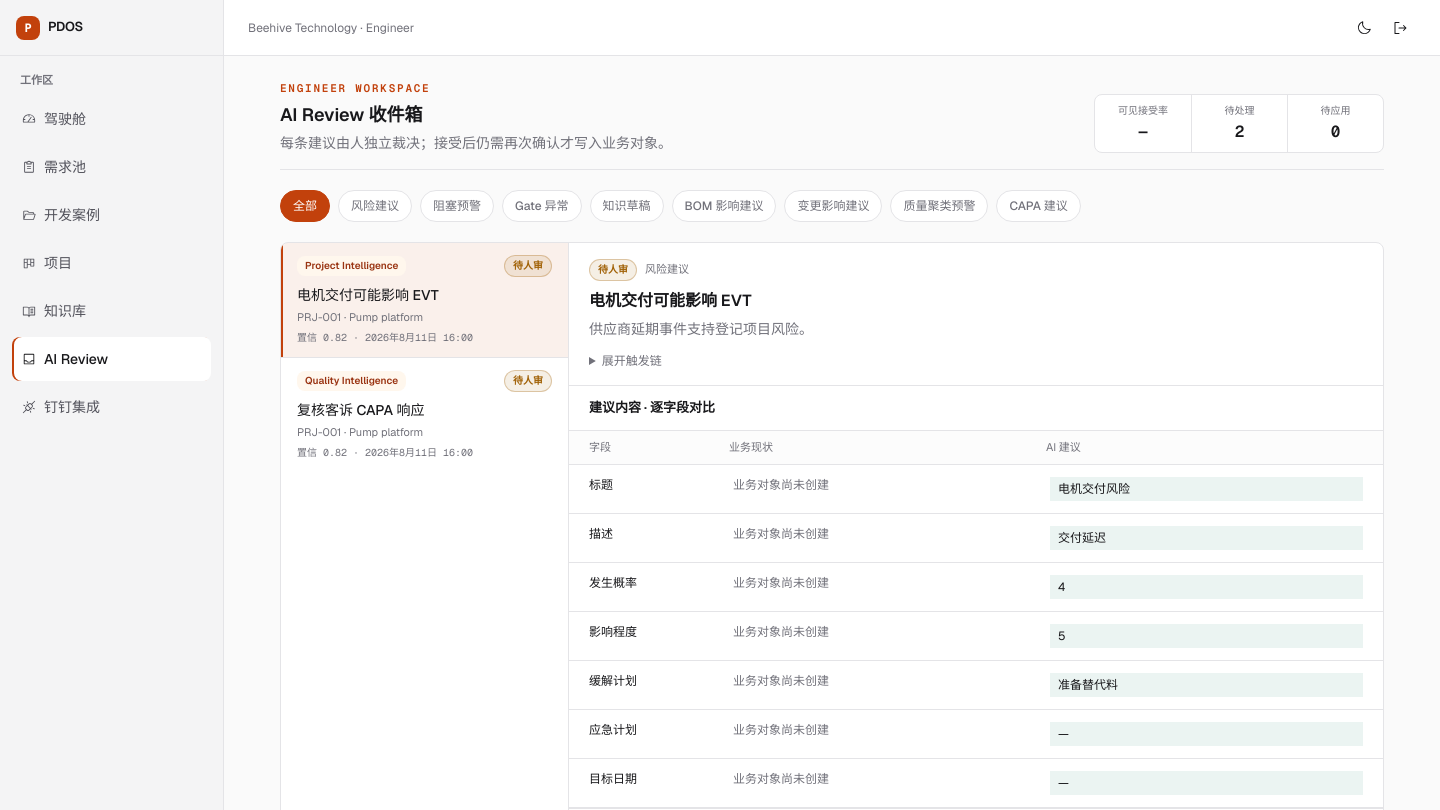
Test: AiReviewInbox › surfaces Phase 2 Engineering and Quality findings through the same review contract
The width and height of the screenshot is (1440, 810).
Click the button "CAPA 建议" at (1039, 206), box [996,190,1081,222]
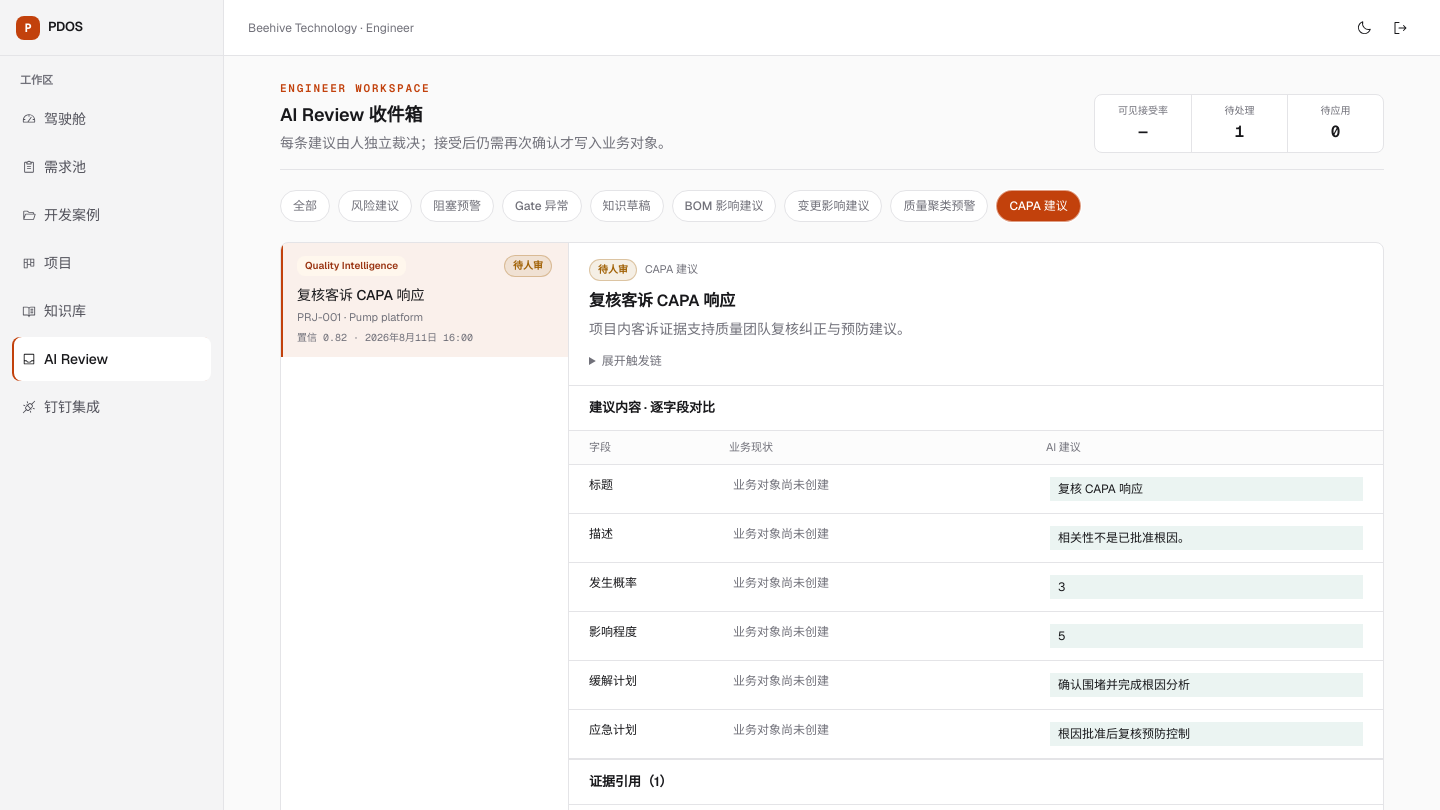
Check: the text "Quality Intelligence" is shown, box [297,256,406,276]
Check: the heading "复核客诉 CAPA 响应" is shown, box [589,290,735,310]
Check: the text "根因批准后复核预防控制" is shown, box [1050,722,1363,746]
